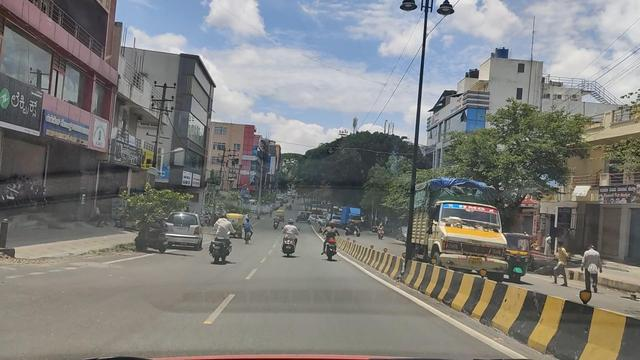LMV: (167, 210, 203, 257), (209, 209, 238, 264), (320, 214, 345, 263), (278, 218, 305, 260)
